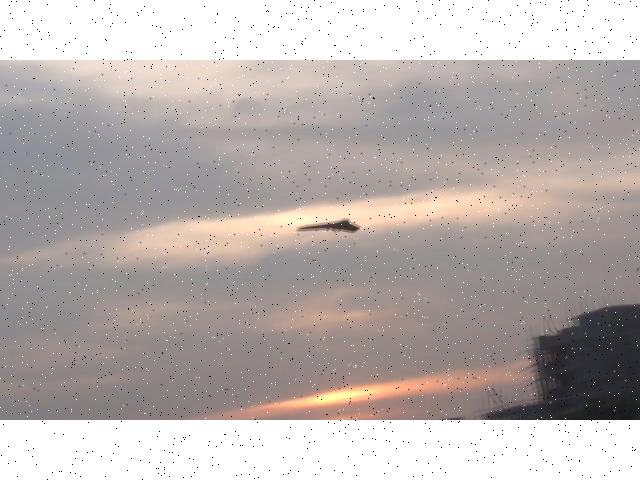Anti-Drone: (296, 216, 360, 234)
